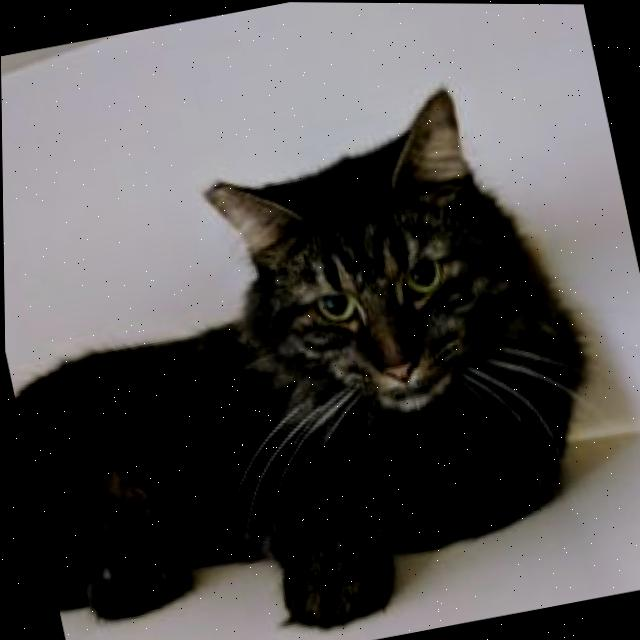Maine Coon: (1, 60, 634, 640)
